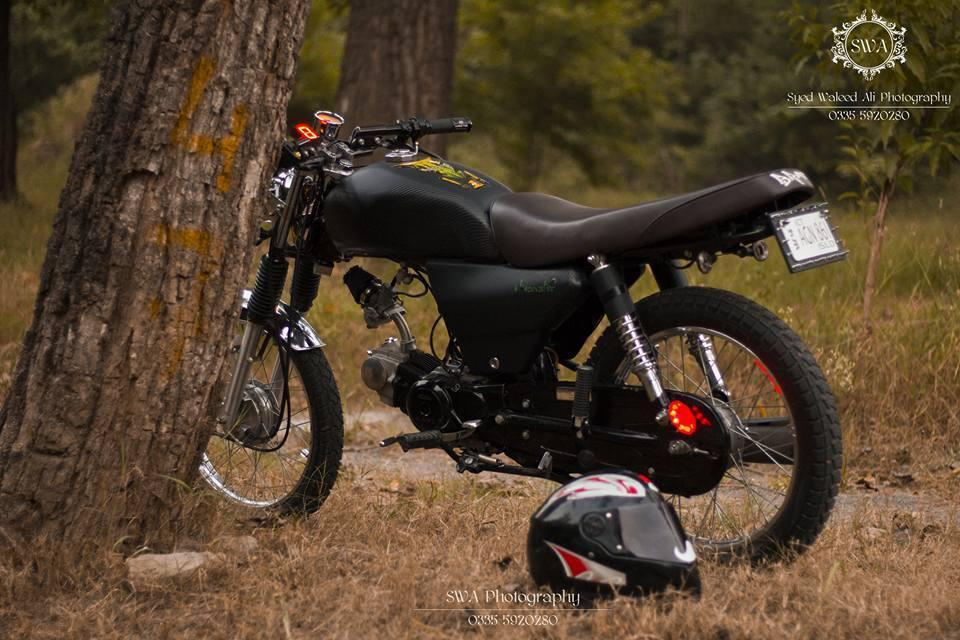motorcycle: (170, 62, 880, 588)
